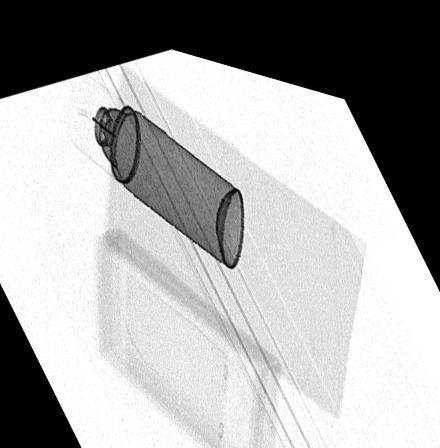Sprayer: (60, 68, 244, 253)
